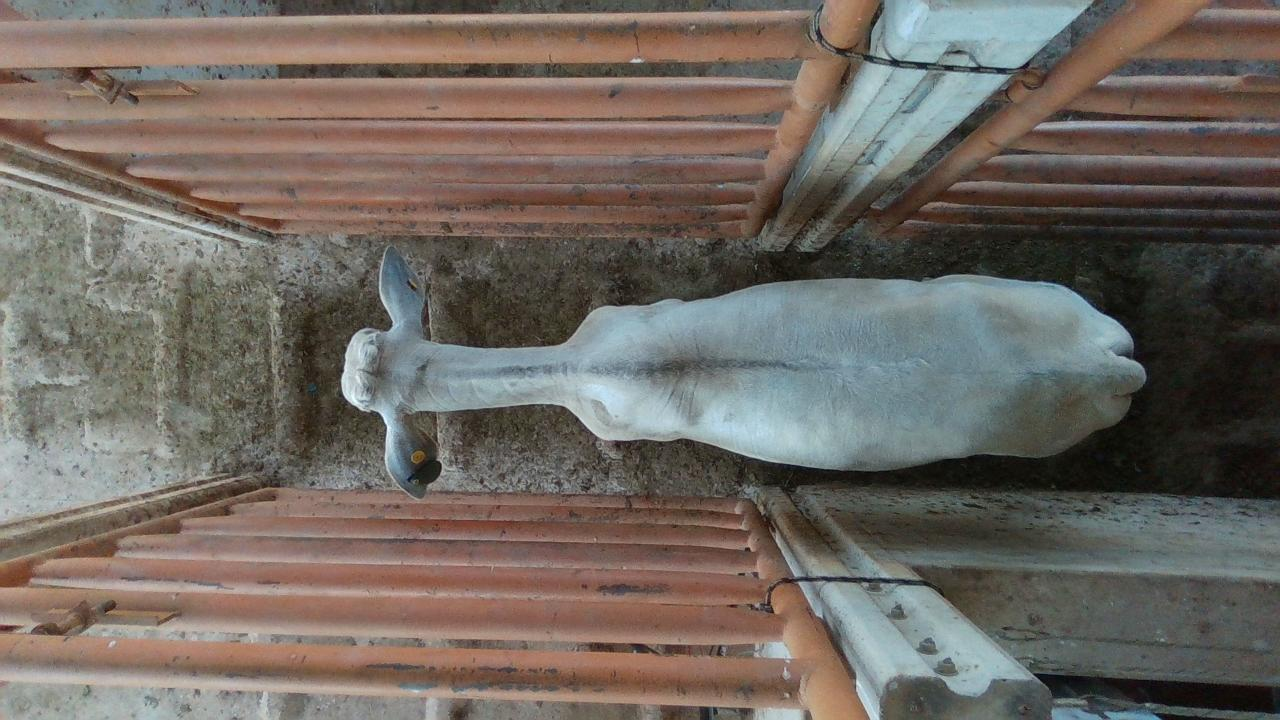cattle: (338, 243, 1147, 499)
